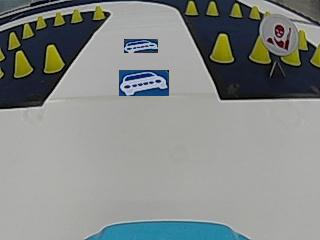evil: (259, 14, 299, 56)
